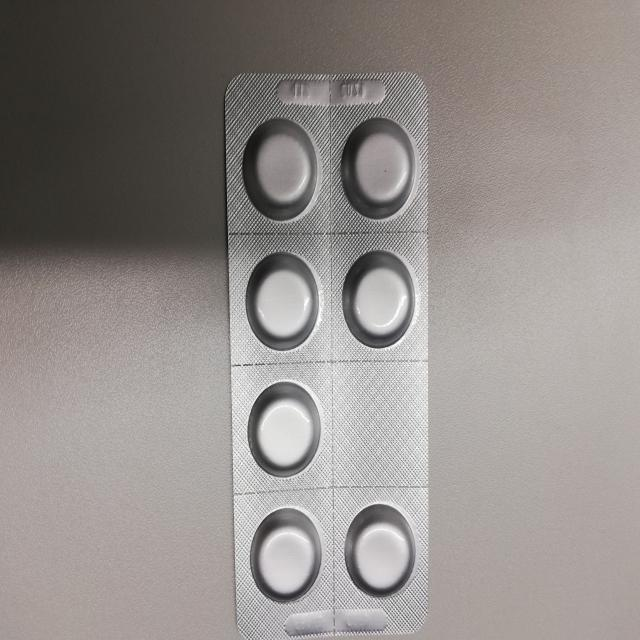Pill: (235, 111, 322, 229), (241, 376, 325, 480), (241, 246, 320, 356), (339, 239, 416, 351), (338, 116, 416, 220), (244, 506, 325, 606), (340, 498, 418, 600)
